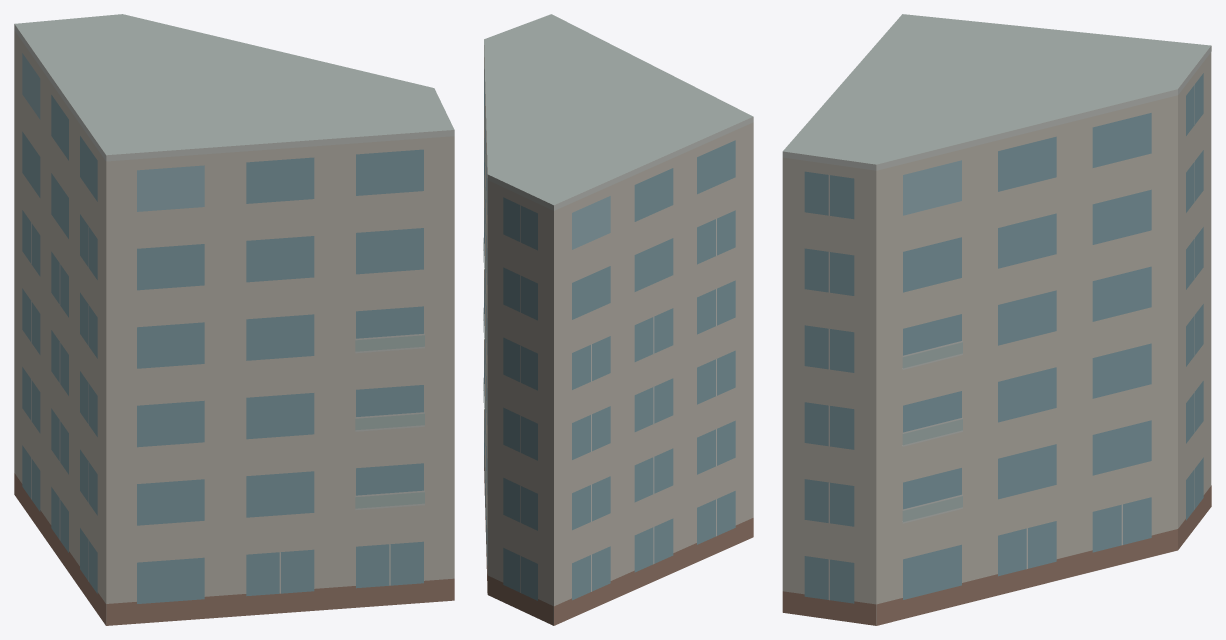
File: survey-upis-32956117.glb
3 views of the same model, side by side, from view 1: azimuth 30°, elevation 25°; view 2: azimuth 150°, elevation 25°; view 3: azimuth 270°, elevation 25° (orthographic). The views are drawn at different scales.
Visible parts, largest first — view 1: survey-upis-32956117.tmp; view 2: survey-upis-32956117.tmp; view 3: survey-upis-32956117.tmp.
Boxes of the visible parts, box(x1,y1,x2,y2) form: survey-upis-32956117.tmp: box(14, 14, 454, 625); survey-upis-32956117.tmp: box(483, 14, 753, 625); survey-upis-32956117.tmp: box(782, 14, 1211, 625).
Bounding box in the file's own units: 12.83 × 18.3 × 15.43.
